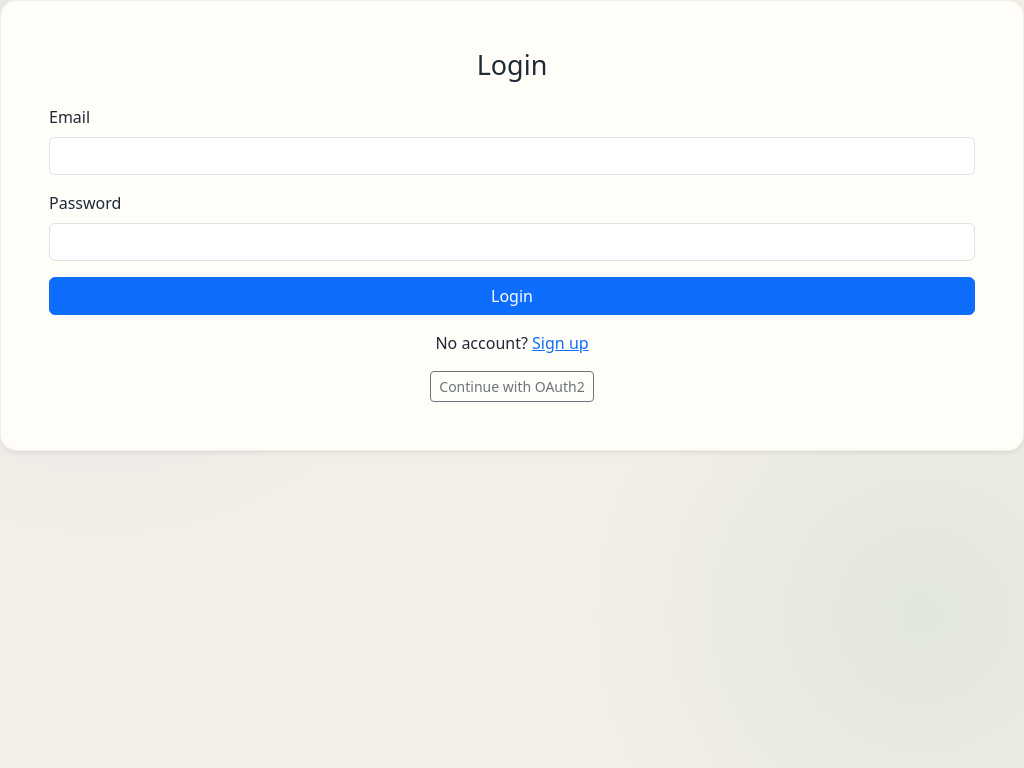
Test: AuthForm › shows api error message when auth fails
In the field: (512, 156) [49, 137, 975, 175], type "u@example.com"
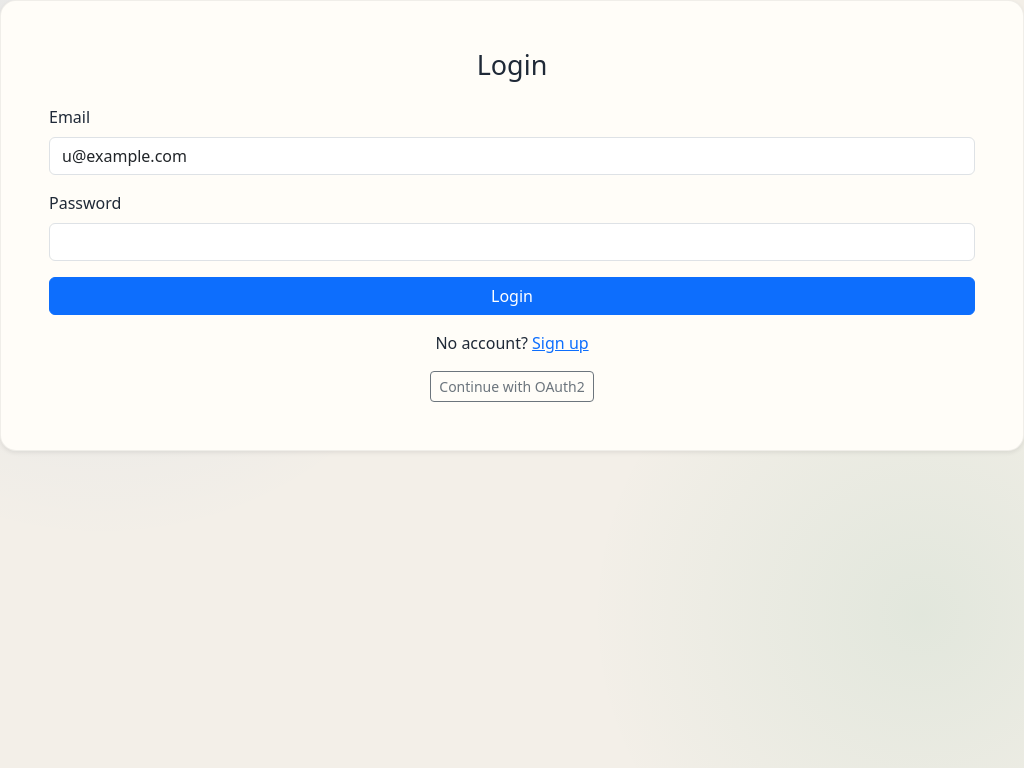
In the password field: (512, 242) [49, 223, 975, 261], type "badpass"
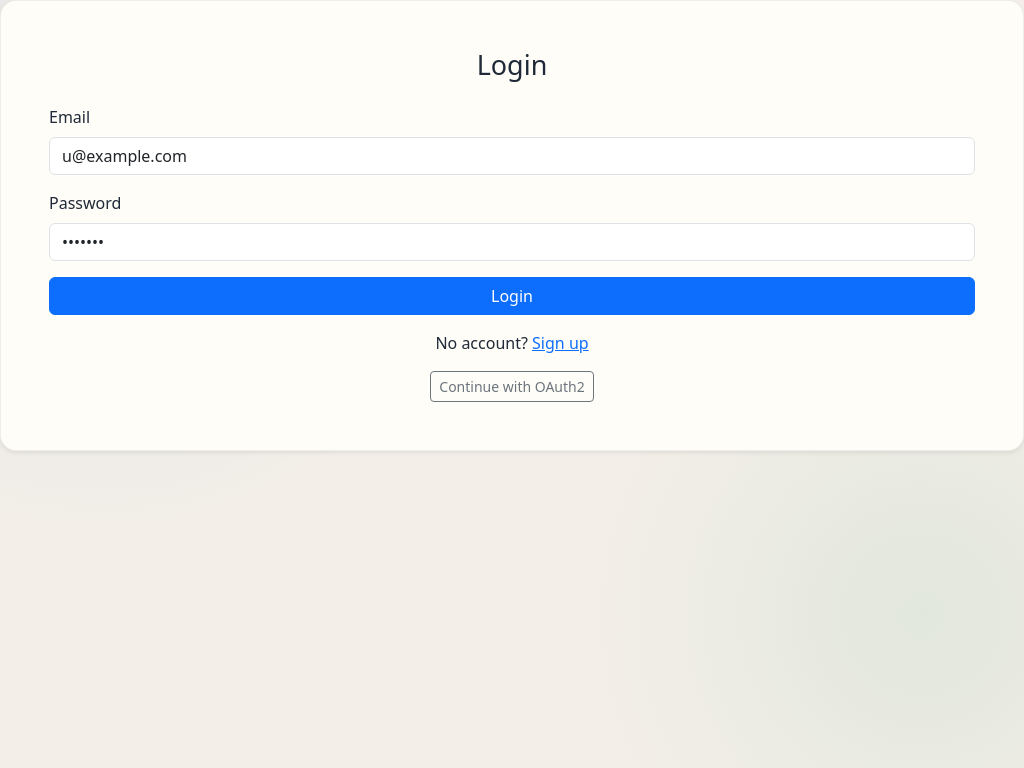
Click the button "Login": (512, 296) [49, 277, 975, 315]
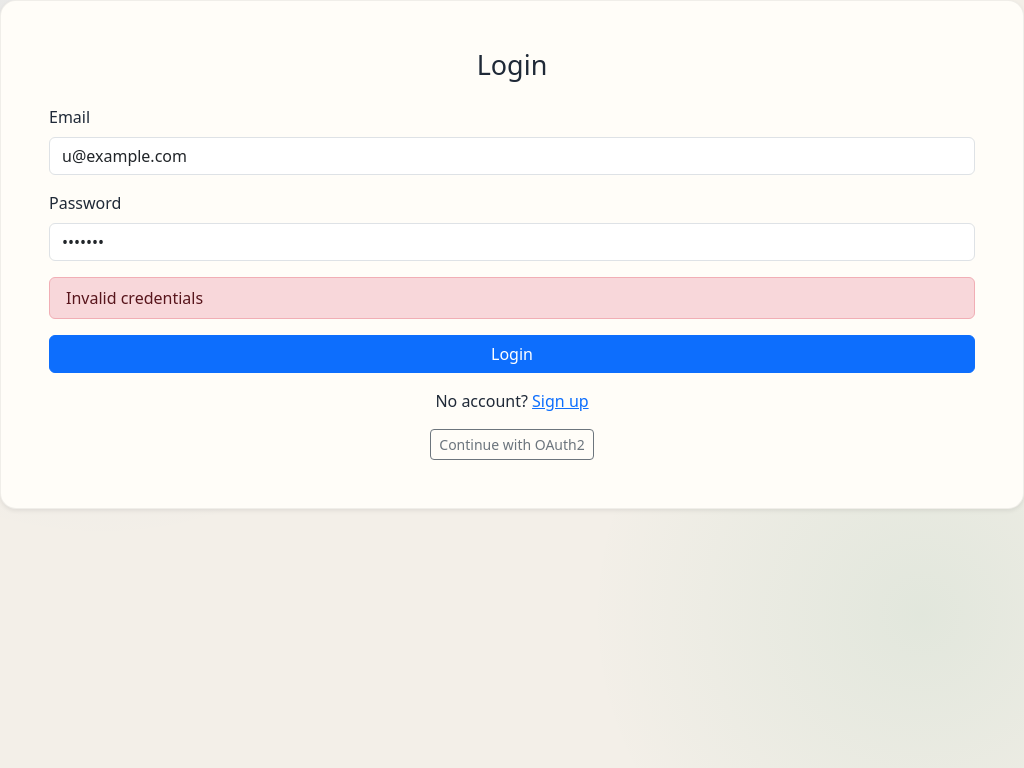
Expected: the text "Invalid credentials" is shown, [49, 277, 975, 319]
